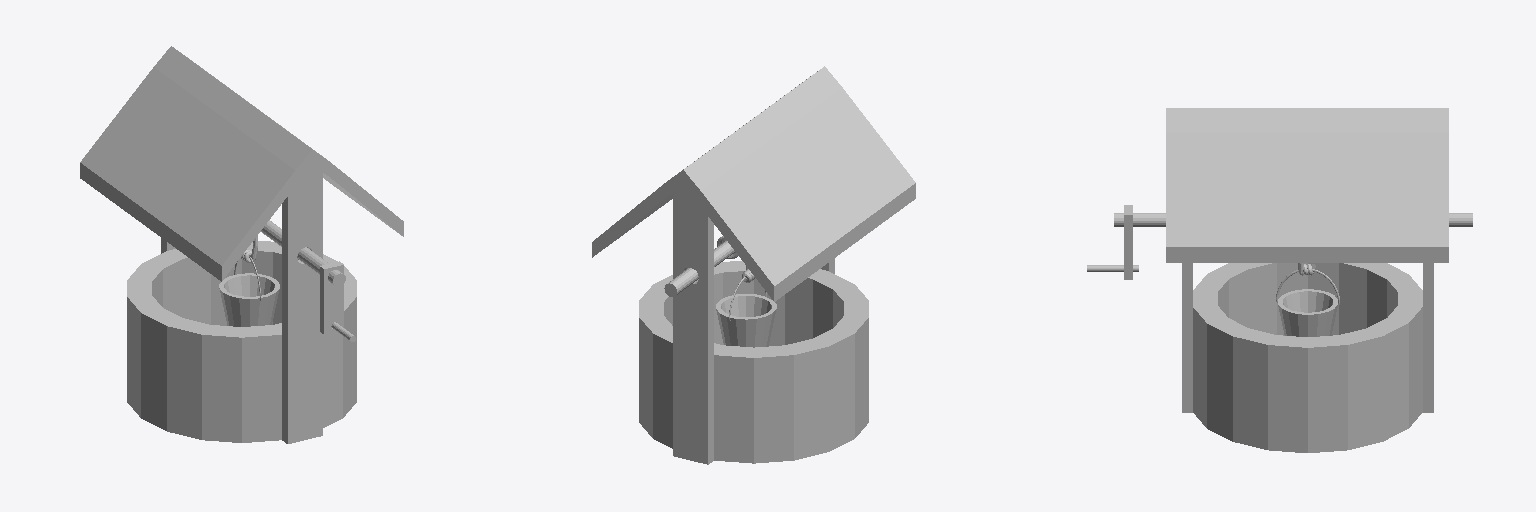
File: poco.obj
3 views of the same model, side by side, from view 1: azimuth 30°, elevation 25°; view 2: azimuth 150°, elevation 25°; view 3: azimuth 270°, elevation 25° (orthographic).
Visible parts, largest first — view 1: Well; view 2: Well; view 3: Well.
Part boxes in pixels (x1,y1,x2,y2): Well: (80, 46, 403, 443); Well: (592, 66, 915, 464); Well: (1087, 108, 1472, 452).
Bounding box in the file's own units: 3.66 × 5.15 × 6.08.